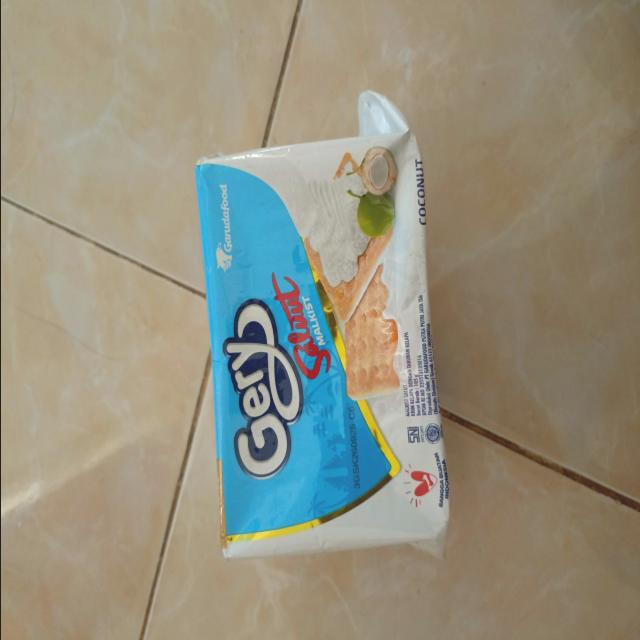gery-salut-coconut: (192, 87, 452, 566)
